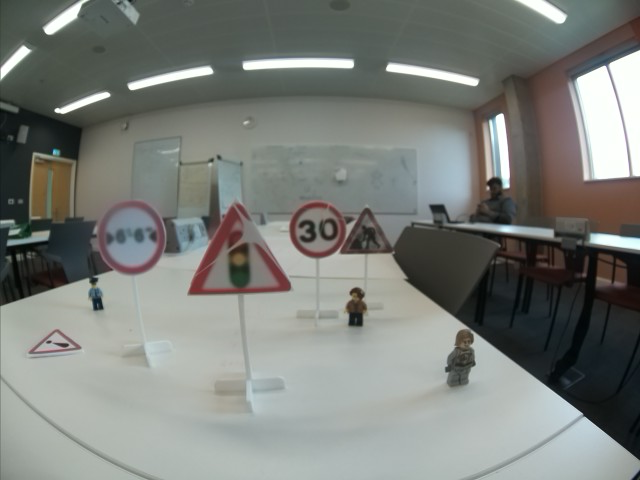30mph: (287, 201, 347, 259)
6ft6: (97, 199, 167, 277)
Lego Man: (444, 329, 481, 389), (342, 283, 370, 328), (87, 275, 105, 311)
Roadworks: (343, 204, 395, 254)
Traffic lights: (185, 198, 294, 297)
Warning: (26, 327, 84, 360)
